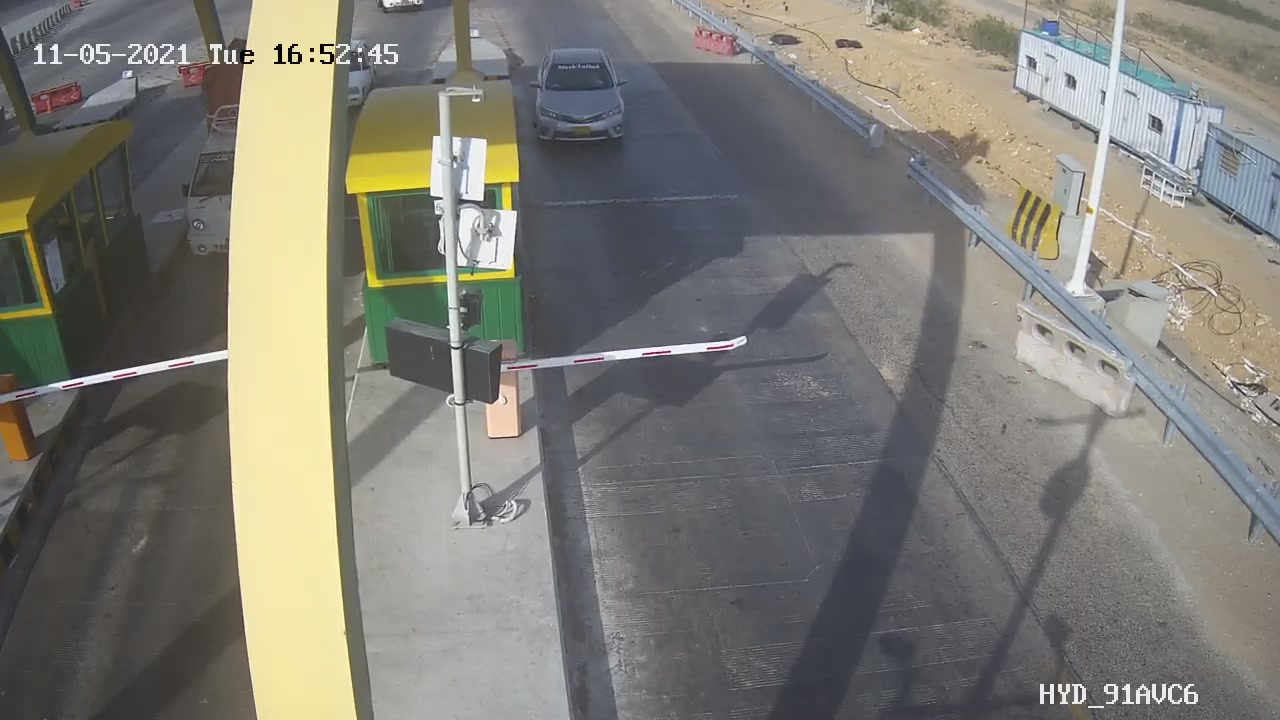F1: (517, 38, 651, 162)
